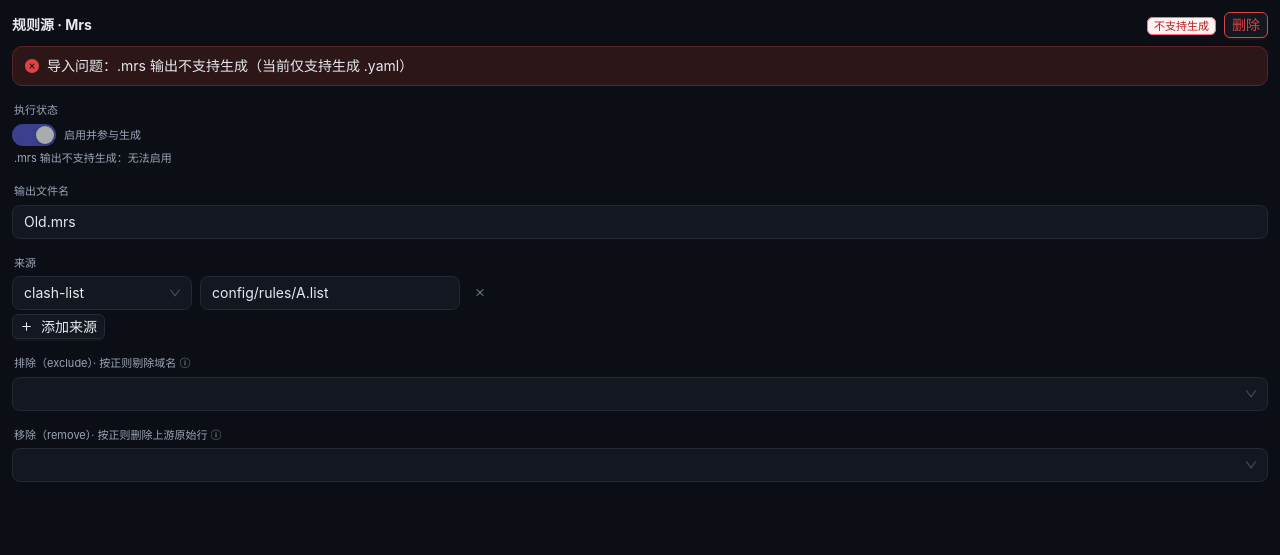
Test: forces a .mrs provider into a disabled draft on save
This screenshot has width=1280, height=555.
Replace the text in the field named "输出文件名" with "New.mrs": (640, 222) [12,204,1268,238]
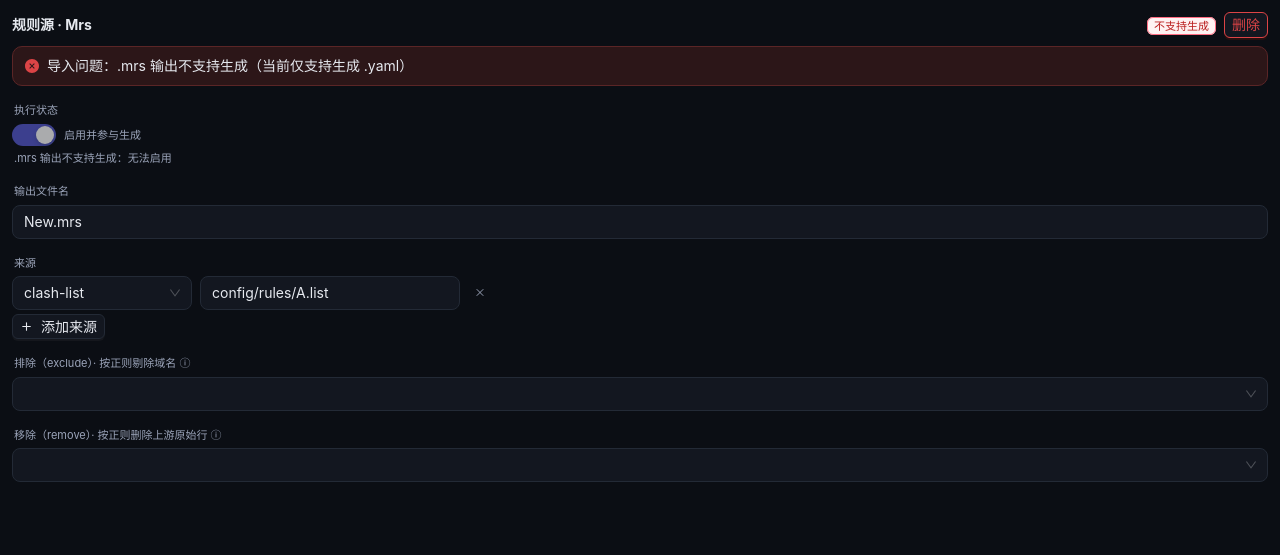
Leave the field named "输出文件名", box [12,204,1268,238]
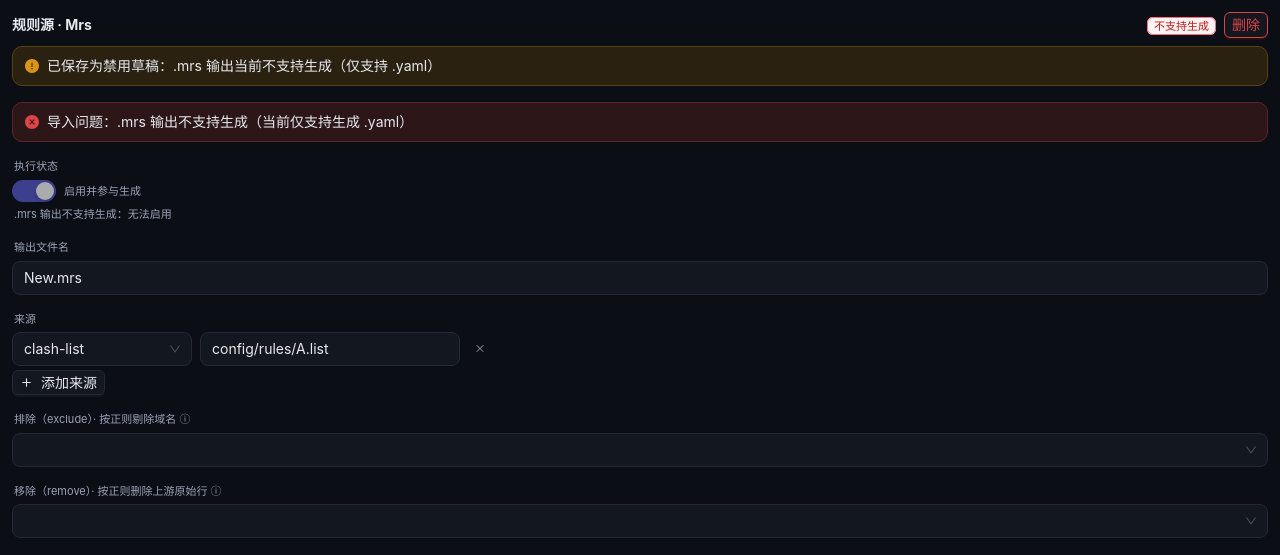
Expected: the text "已保存为禁用草稿：.mrs 输出当前不支持生成（仅支持 .yaml）" is shown, [47,56,441,74]
